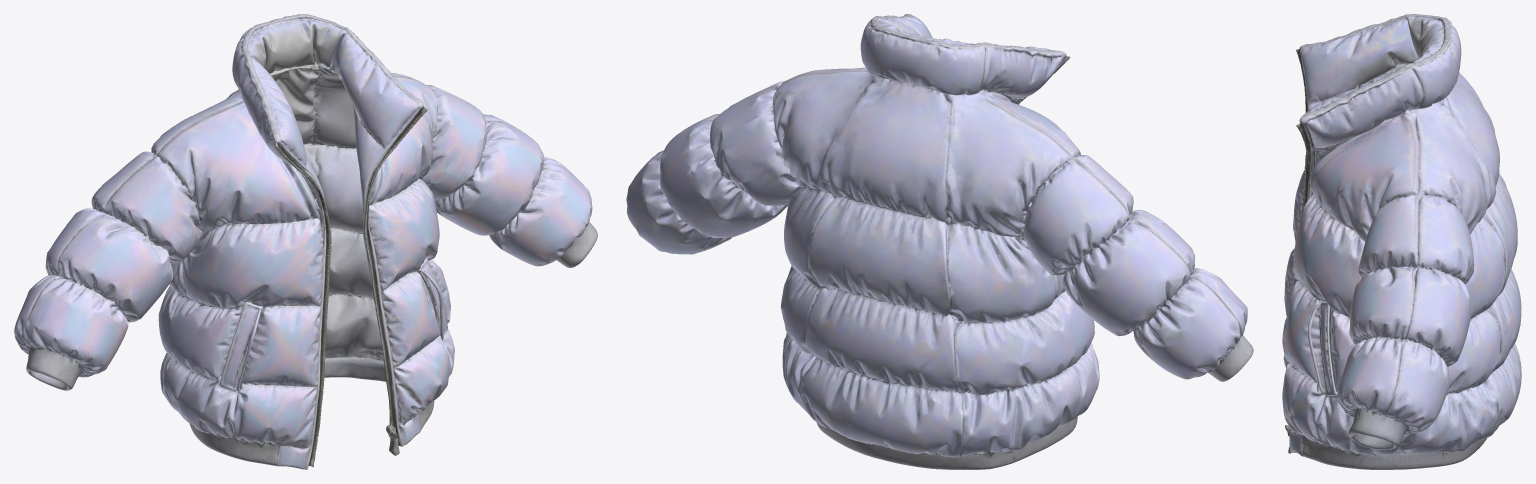
Rendered from puffer-silver-iridescent.glb.
3 views of the same model, side by side, from view 1: azimuth 30°, elevation 25°; view 2: azimuth 150°, elevation 25°; view 3: azimuth 270°, elevation 25° (orthographic). The views are drawn at different scales.
Size of the model in its own units: 1.89 by 1.25 by 0.6735.
1 material, 1 textured.
